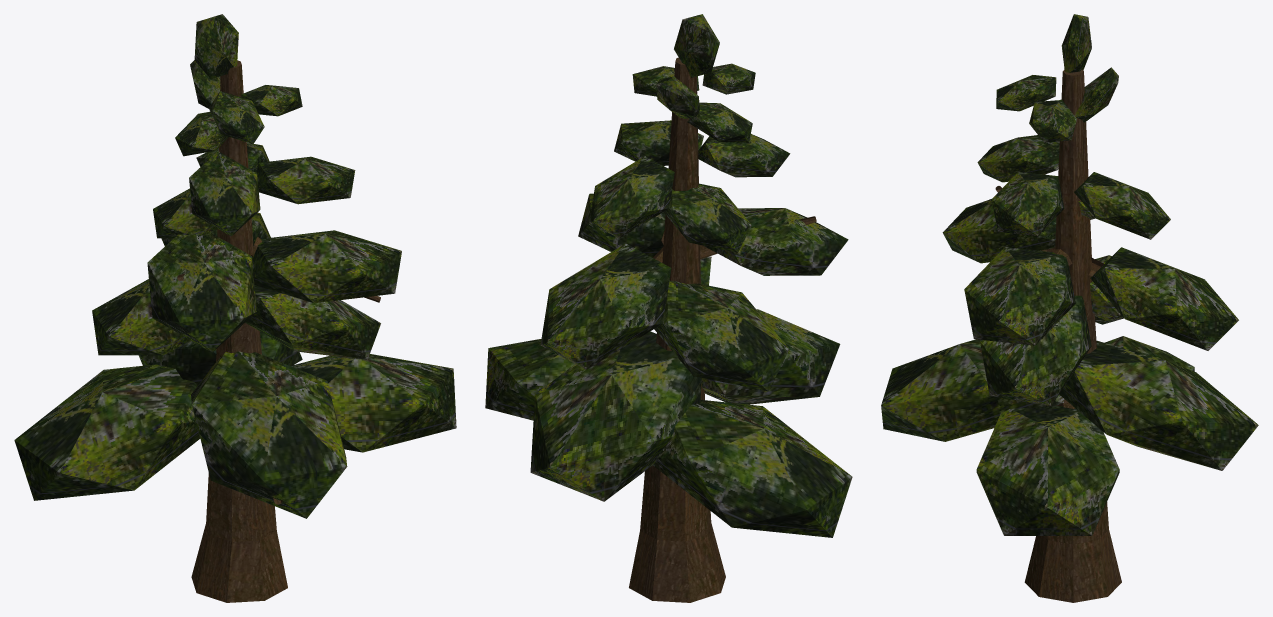
The model's file is pinetree.fbx.
The picture shows the model from 3 angles, left to right: view 1: azimuth 30°, elevation 25°; view 2: azimuth 150°, elevation 25°; view 3: azimuth 270°, elevation 25°; orthographic projection. The views are drawn at different scales.
Visible parts, largest first — view 1: Icosphere; view 2: Icosphere; view 3: Icosphere.
Part boxes in pixels (bbox=[...]): Icosphere: bbox=[14, 14, 456, 602]; Icosphere: bbox=[485, 14, 852, 602]; Icosphere: bbox=[881, 14, 1258, 602].
Bounding box in the file's own units: 879 × 1260 × 775.
